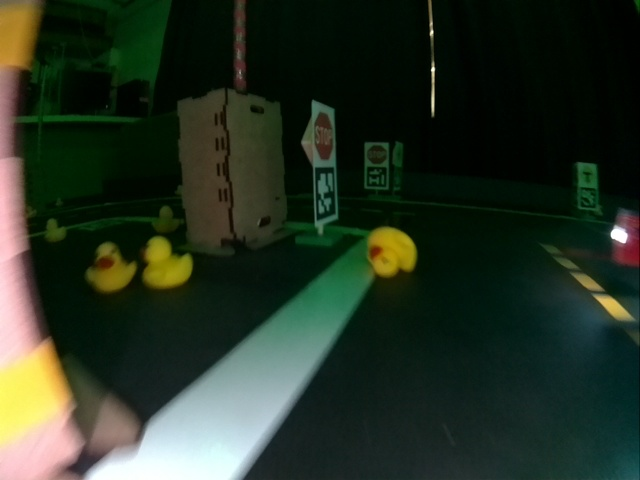Duckie: (141, 237, 192, 289), (87, 243, 136, 293), (366, 226, 412, 276), (152, 206, 180, 233), (45, 218, 67, 242)
Duckiebot: (611, 208, 640, 267)
Intersection sign: (581, 165, 595, 184)
QR code: (316, 168, 335, 221), (366, 166, 387, 187), (580, 187, 596, 208)
Stop sign: (315, 111, 333, 162), (367, 145, 386, 165)
